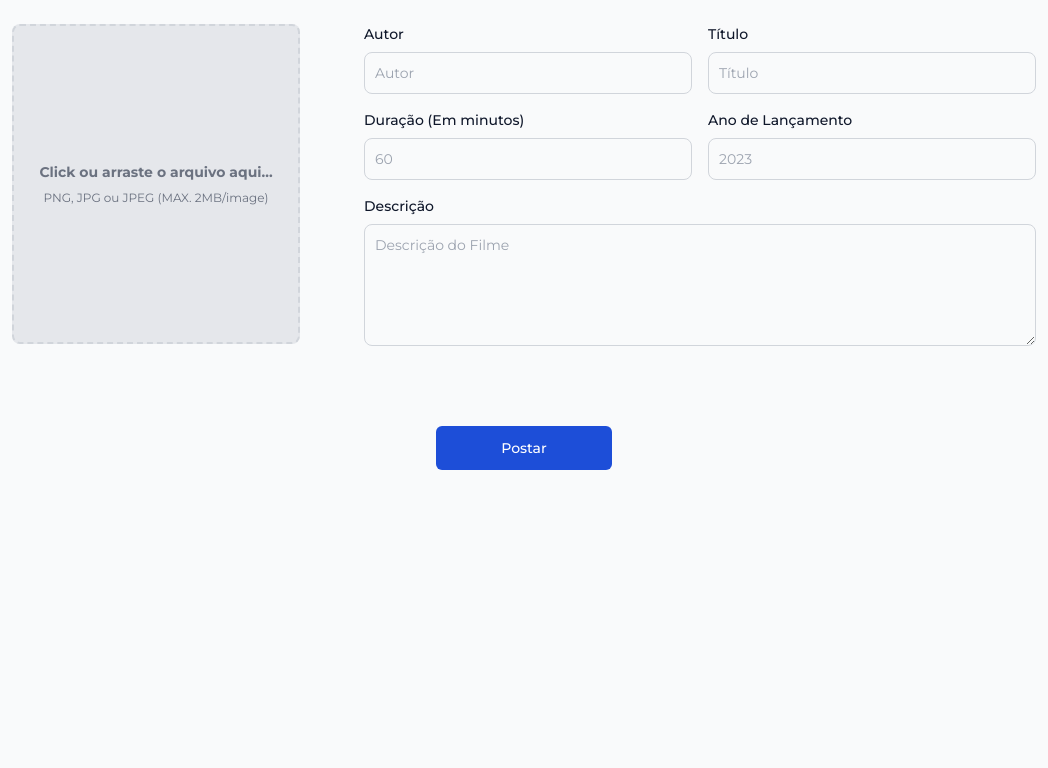
Scenario: Movie Form › Should message error, case the fields are blank and no image
Click the button "Postar".
click(524, 448)  # box 436,426 -> 612,470
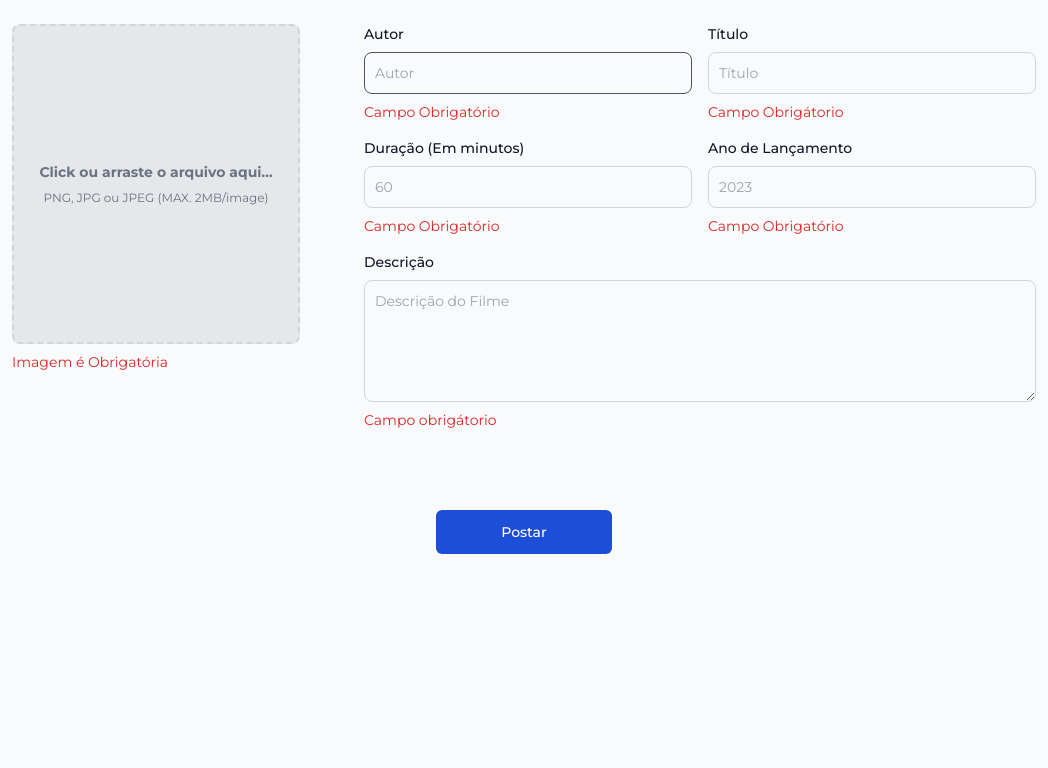
Now the text "Campo Obrigátorio" is shown, box 708,103 -> 844,121
